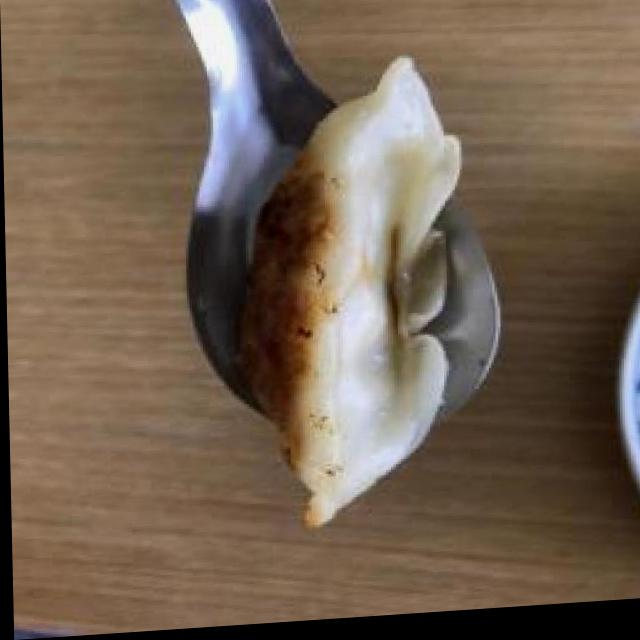fried_dumplings: (252, 74, 459, 508)
